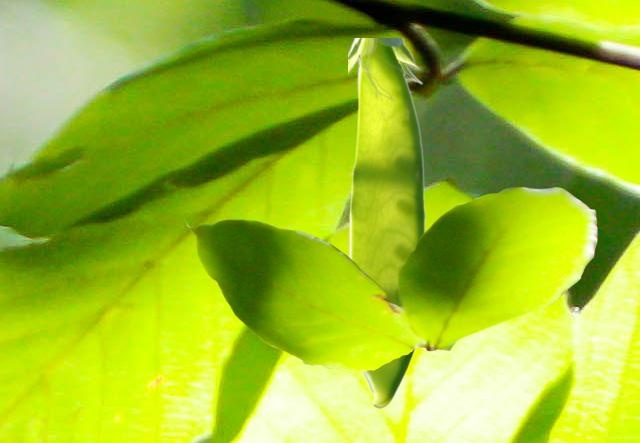pea: (348, 38, 425, 408)
